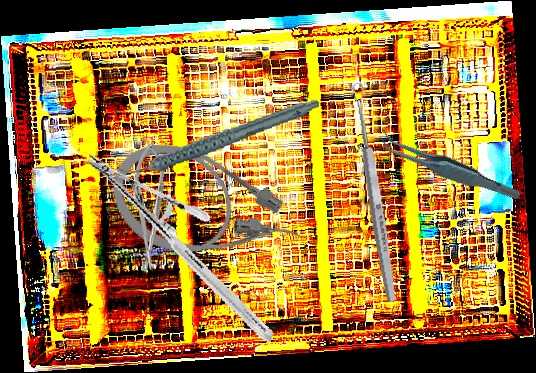Cannula: (95, 123, 317, 300)
Handpiece: (113, 96, 325, 178)
Needle Holder: (53, 153, 307, 343), (132, 141, 166, 271)
Surgical Spoon: (349, 82, 400, 303)
Tissue Forceps: (375, 106, 523, 229)
